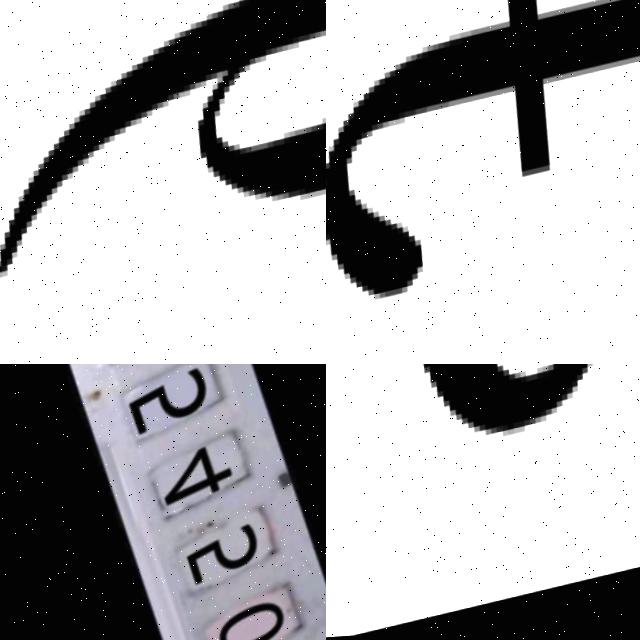0: (202, 584, 313, 640)
4: (139, 429, 259, 526)
5: (171, 509, 289, 602), (115, 364, 229, 448)
6: (0, 0, 326, 288)
F: (326, 0, 640, 316)
G: (326, 364, 640, 628)
